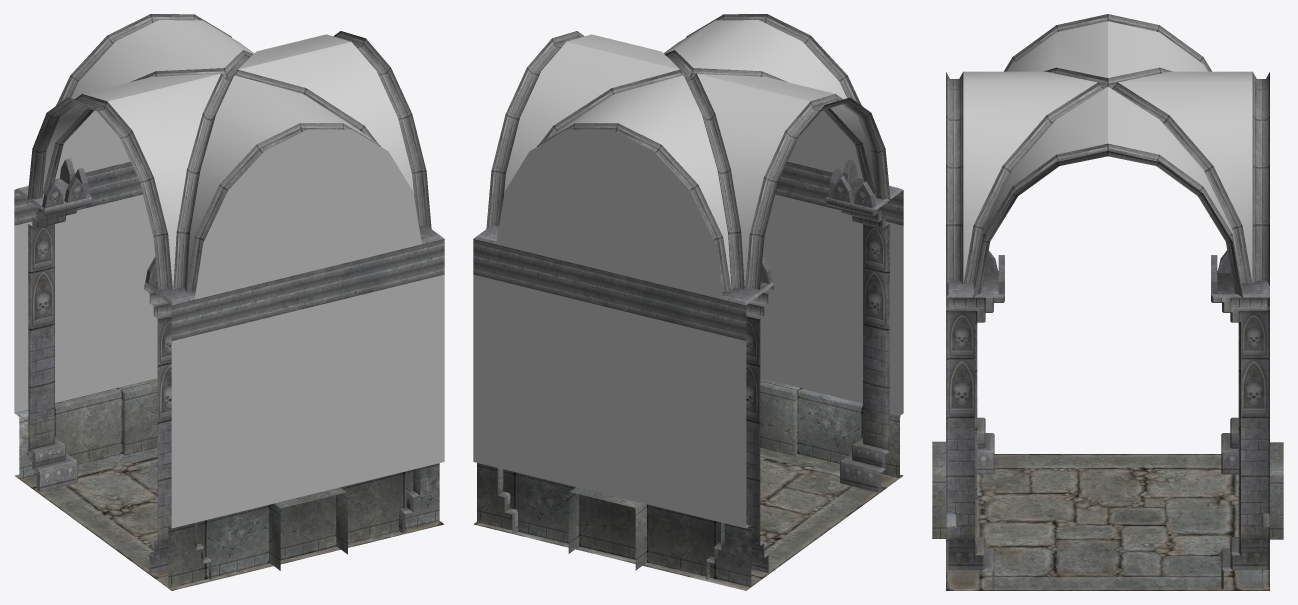
The model's file is tunnel_1.FBX.
3 renders of one model, left to right at view 1: azimuth 30°, elevation 25°; view 2: azimuth 150°, elevation 25°; view 3: azimuth 270°, elevation 25°, orthographic. The views are drawn at different scales.
Parts seen in each view (by area): view 1: tunnel_1; view 2: tunnel_1; view 3: tunnel_1.
Boxes of the visible parts, x1,y1,x2,y2 form: tunnel_1: (14,14,444,590); tunnel_1: (473,14,903,590); tunnel_1: (932,14,1283,590).
Size of the model in its own units: 500 by 750 by 543.
